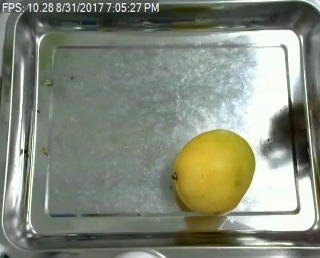Mango: (173, 128, 256, 214)
